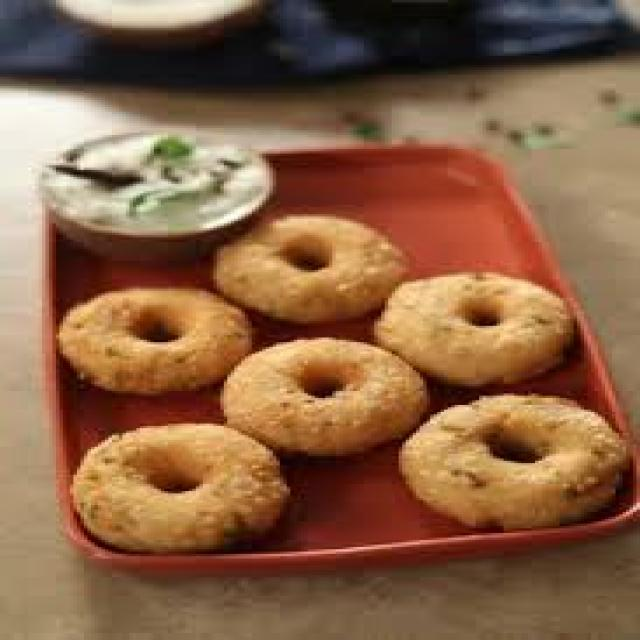MEDU VADA: (398, 393, 630, 526), (72, 424, 288, 547), (223, 338, 428, 456), (63, 284, 262, 395), (212, 214, 406, 322)
